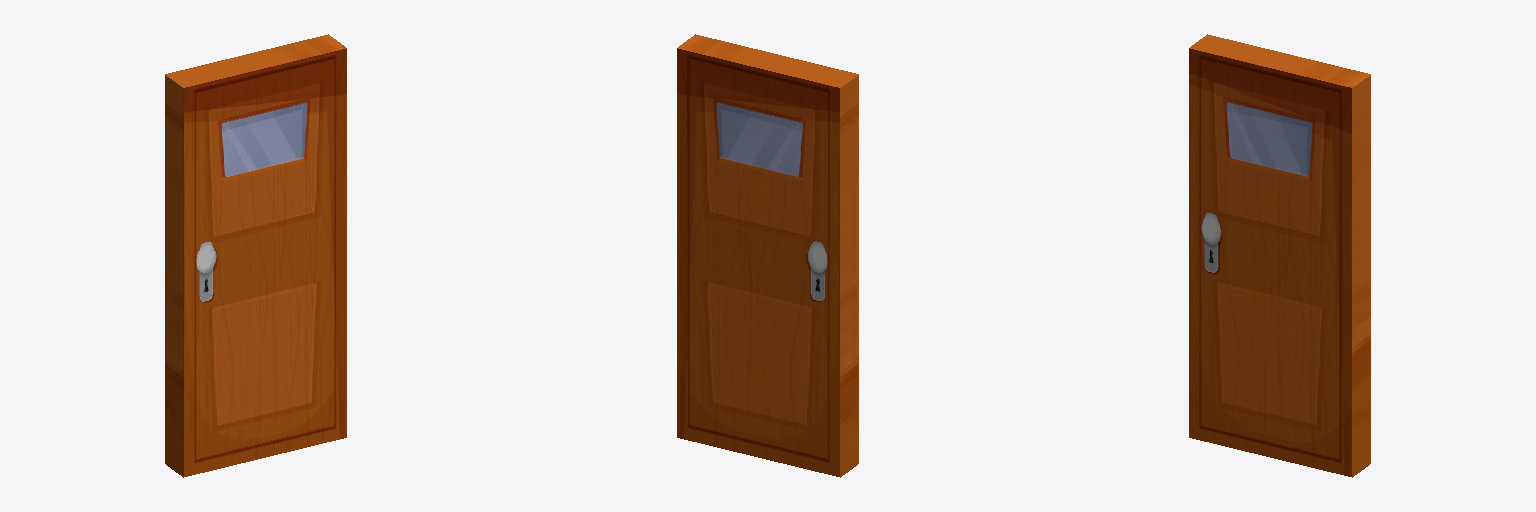
3 renders of one model, left to right at view 1: azimuth 30°, elevation 25°; view 2: azimuth 150°, elevation 25°; view 3: azimuth 330°, elevation 25°, orthographic.
Visible parts, largest first — view 1: PuertaPrincipal_Puerta; view 2: PuertaPrincipal_Puerta; view 3: PuertaPrincipal_Puerta.
Boxes of the visible parts, box(x1,y1,x2,y2) form: PuertaPrincipal_Puerta: box(165, 34, 346, 477); PuertaPrincipal_Puerta: box(677, 34, 858, 477); PuertaPrincipal_Puerta: box(1189, 34, 1370, 477).
Size of the model in its own units: 1 by 2.27 by 0.2.
Materials: 1 (1 with a texture image).